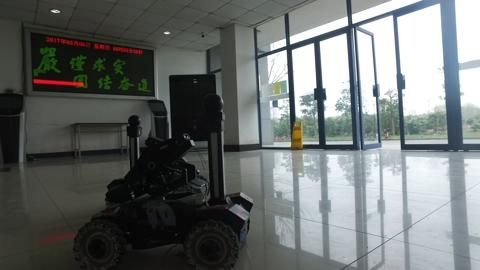chariot: (73, 86, 247, 267), (102, 116, 209, 208)
